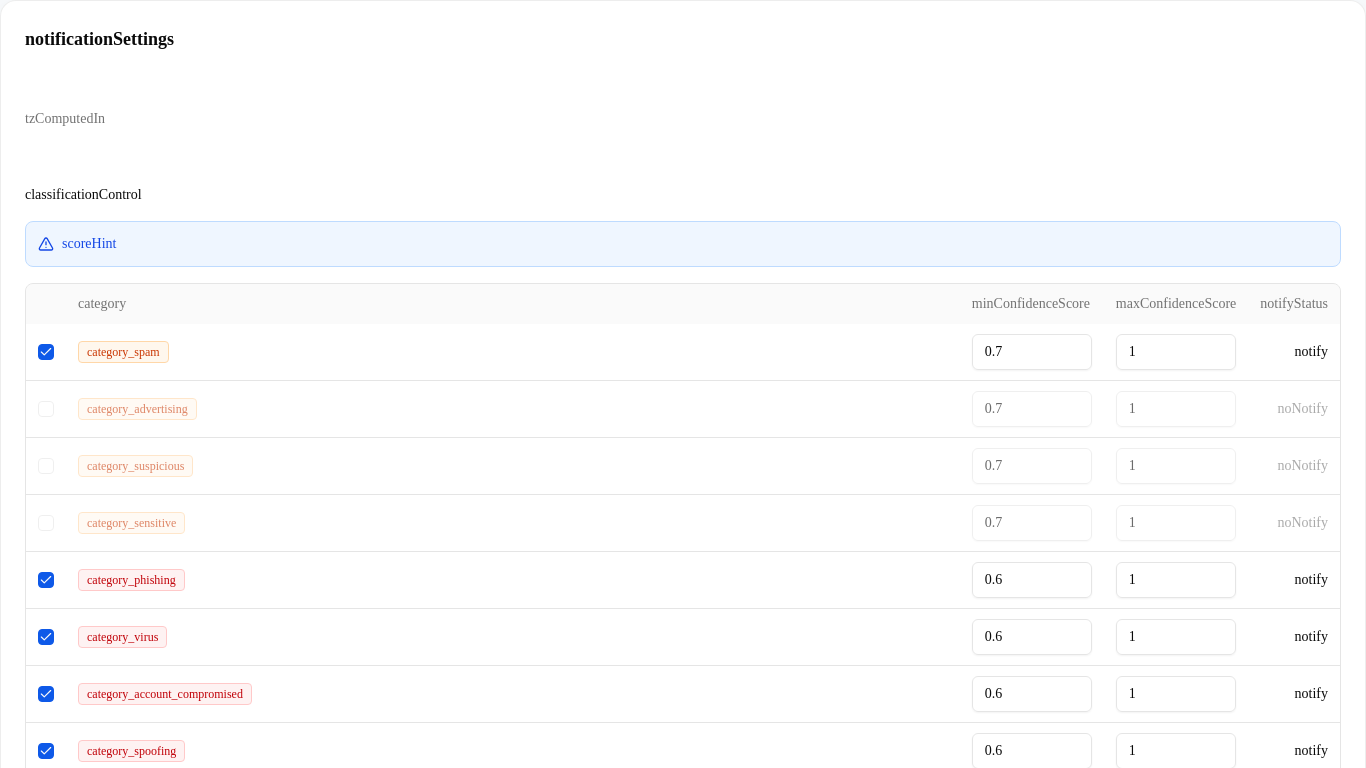
QuarantineSettingsTab category notification section (task-10) › does not let an out-of-range value bypass clamp via change→clear→blur
Replace the text in the number field with test id "disposal-settings-category-min-spam" with "5" at {"x": 1032, "y": 352}, box [972,334,1092,370]
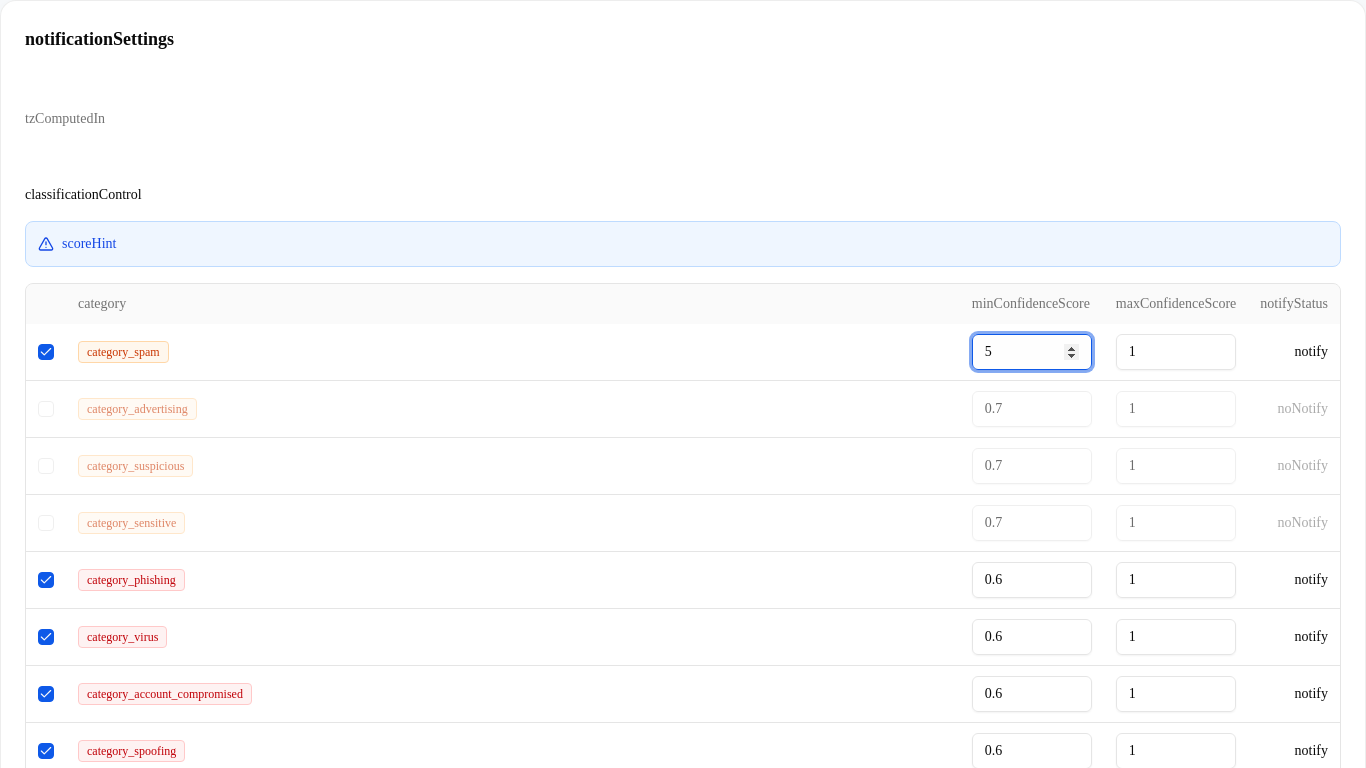
Clear the number field with test id "disposal-settings-category-min-spam" at {"x": 1032, "y": 352}, box [972,334,1092,370]
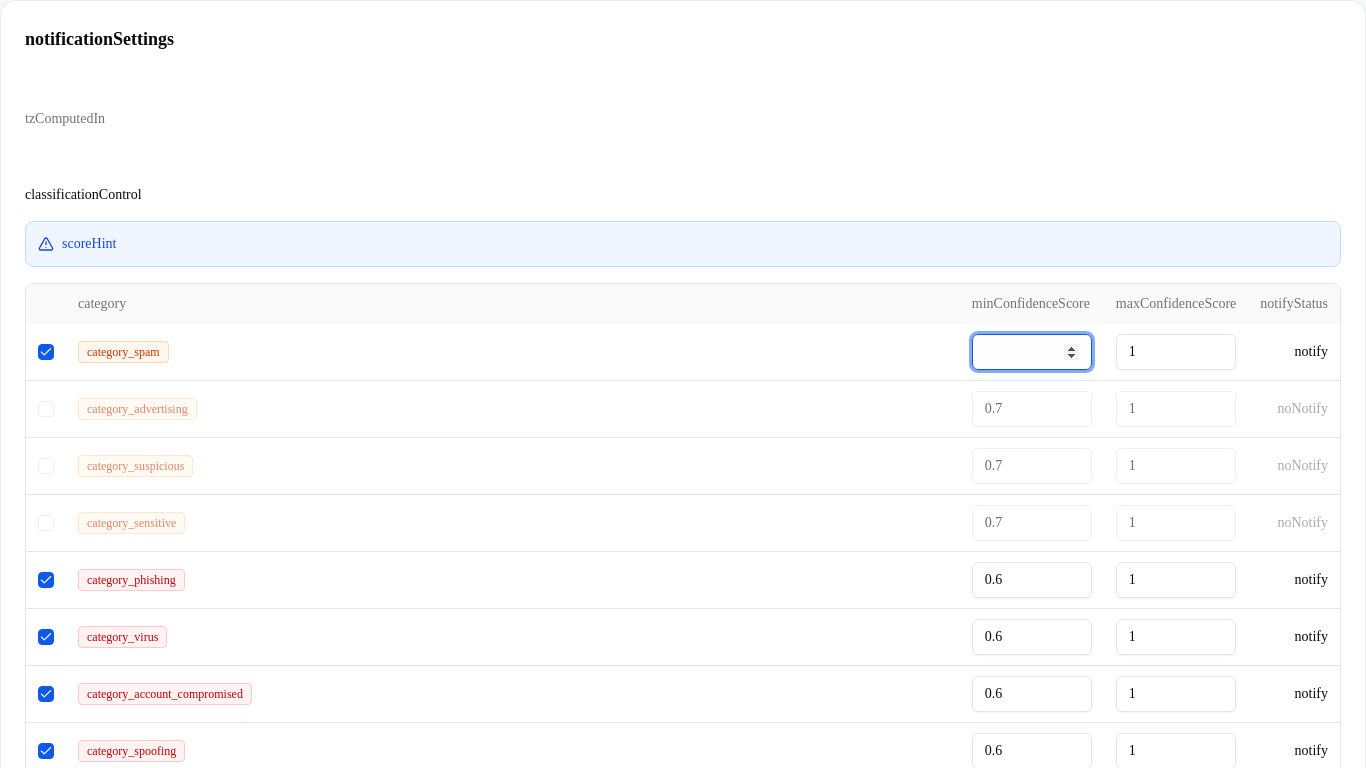
Press Tab
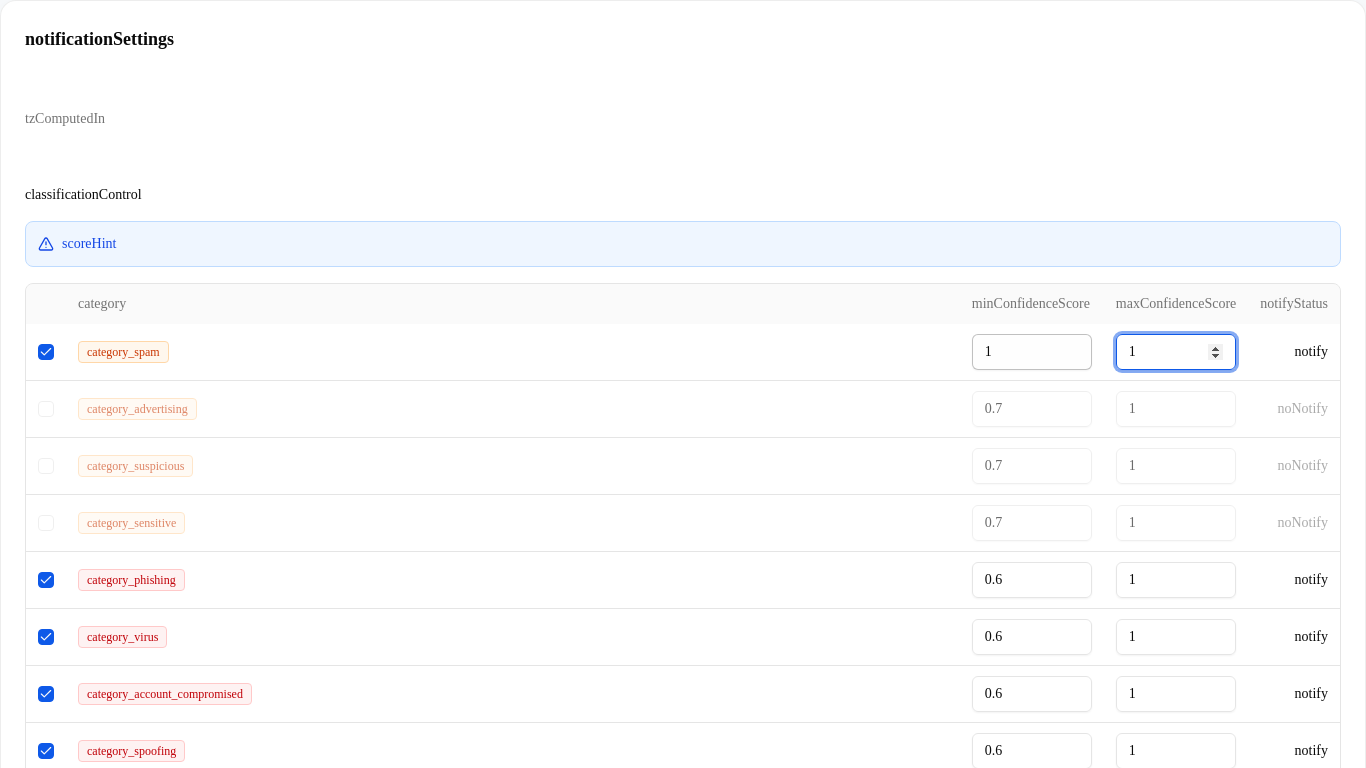
Check: the number field with test id "disposal-settings-category-min-spam" does not hold "5", box [972,334,1092,370]
